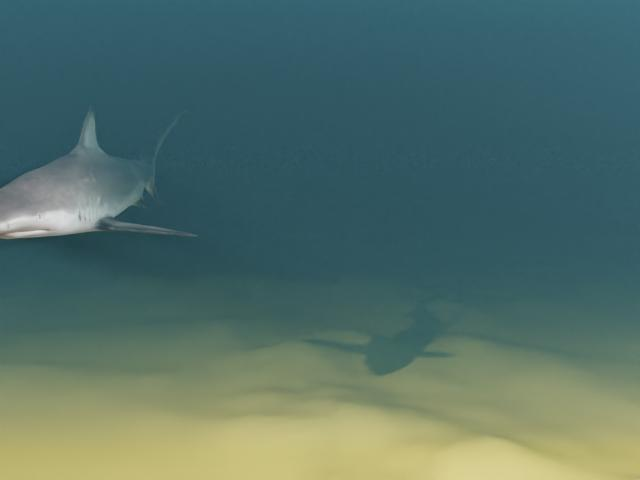Carribean Shark.001: (0, 106, 197, 238)
